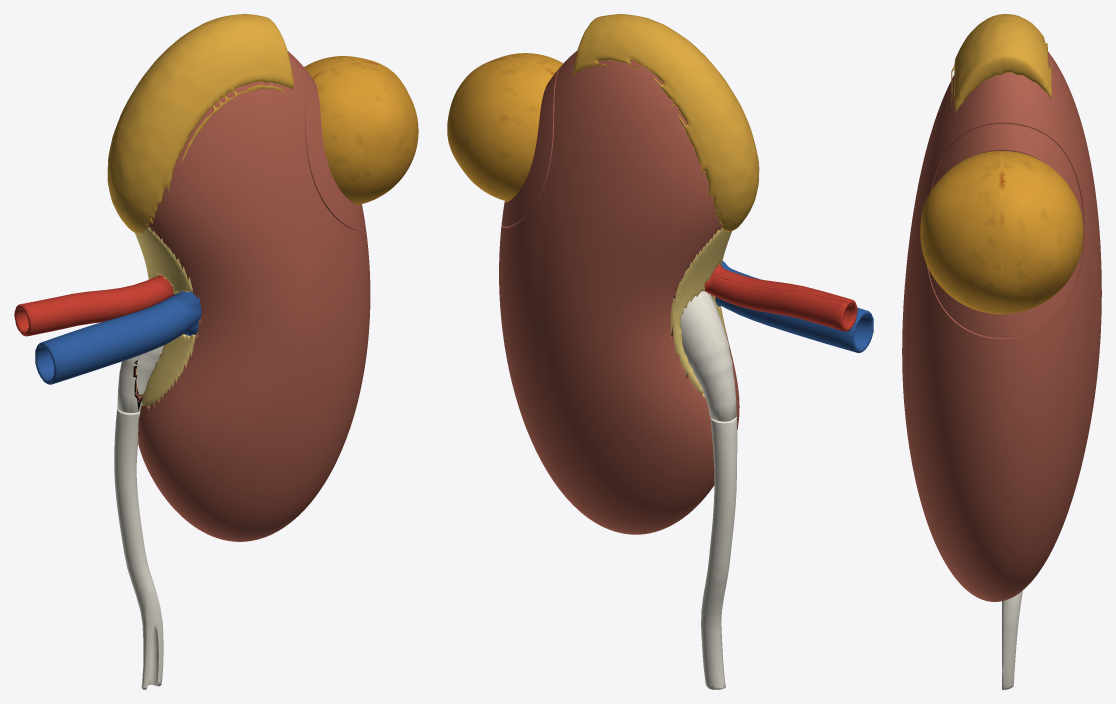
The model's file is kidney_partial_nephrectomy_coronal.glb.
3 views of the same model, side by side, from view 1: azimuth 30°, elevation 25°; view 2: azimuth 150°, elevation 25°; view 3: azimuth 270°, elevation 25° (orthographic). The views are drawn at different scales.
Visible parts, largest first — view 1: anterior_half, ureter, adrenal_gland, renal_pelvis, tumor; view 2: renal_cortex, adrenal_gland, tumor, anterior_half, ureter, renal_pelvis, renal_artery, resection_margin, renal_sinus; view 3: anterior_half, renal_cortex, tumor, resection_margin, adrenal_gland, ureter.
Part boxes in pixels (left/top/right/bottom): anterior_half: left=20, top=18, right=418, bottom=541; ureter: left=114, top=408, right=163, bottom=689; adrenal_gland: left=107, top=14, right=271, bottom=229; renal_pelvis: left=117, top=355, right=143, bottom=413; tumor: left=304, top=56, right=391, bottom=78; renal_cortex: left=499, top=50, right=721, bottom=534; adrenal_gland: left=573, top=15, right=754, bottom=231; tumor: left=447, top=58, right=553, bottom=201; anterior_half: left=484, top=14, right=873, bottom=526; ureter: left=701, top=417, right=737, bottom=689; renal_pelvis: left=680, top=291, right=736, bottom=421; renal_artery: left=702, top=274, right=848, bottom=331; resection_margin: left=501, top=66, right=560, bottom=227; renal_sinus: left=670, top=228, right=727, bottom=398; anterior_half: left=902, top=14, right=1001, bottom=601; renal_cortex: left=1002, top=52, right=1101, bottom=600; tumor: left=1002, top=151, right=1083, bottom=314; resection_margin: left=1002, top=124, right=1083, bottom=337; adrenal_gland: left=1002, top=14, right=1051, bottom=98; ureter: left=1002, top=590, right=1022, bottom=689.
Bounding box in the file's own units: 8.96 × 14.23 × 3.66.
1 material, 1 textured.
